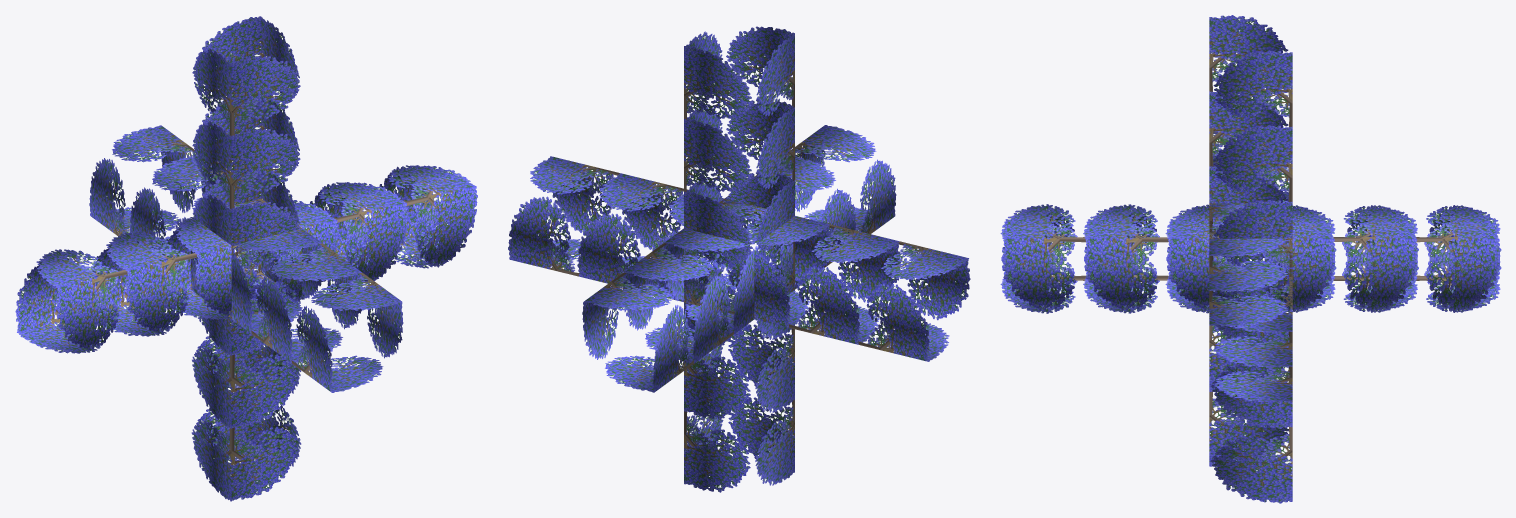
File: Tetrahemihexacron7.gltf
3 views of the same model, side by side, from view 1: azimuth 30°, elevation 25°; view 2: azimuth 150°, elevation 25°; view 3: azimuth 270°, elevation 25° (orthographic). The views are drawn at different scales.
Visible parts, largest first — view 1: Tetrahemihexacron1; view 2: Tetrahemihexacron1; view 3: Tetrahemihexacron1.
Part boxes in pixels (x1,y1,x2,y2): Tetrahemihexacron1: (15,16,477,501); Tetrahemihexacron1: (508,26,970,492); Tetrahemihexacron1: (1000,15,1501,503).
Size of the model in its own units: 6 by 6 by 6.
1 material, 1 textured.
